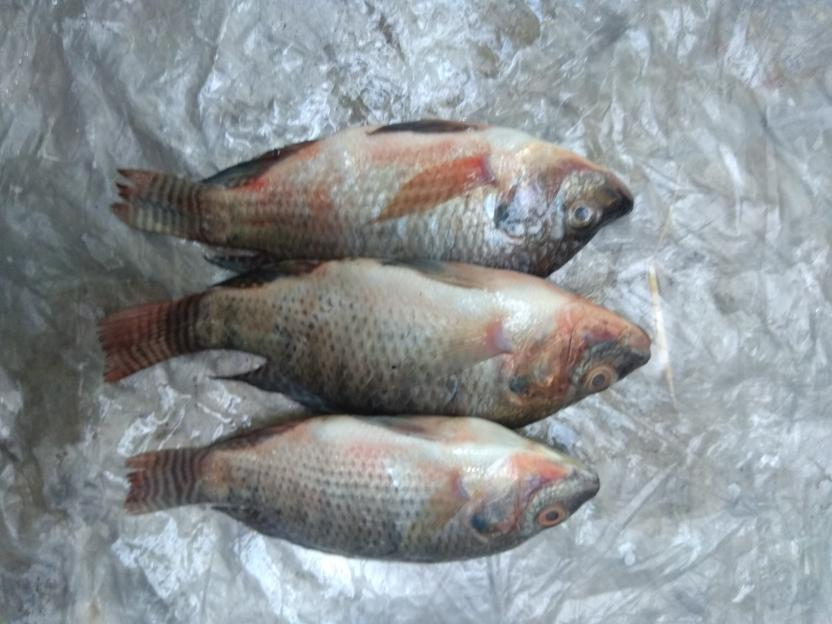Fish head: (507, 282, 653, 428), (494, 130, 635, 274), (469, 429, 603, 560)
Fish tail: (95, 290, 210, 384), (110, 164, 215, 243), (123, 444, 215, 517)
